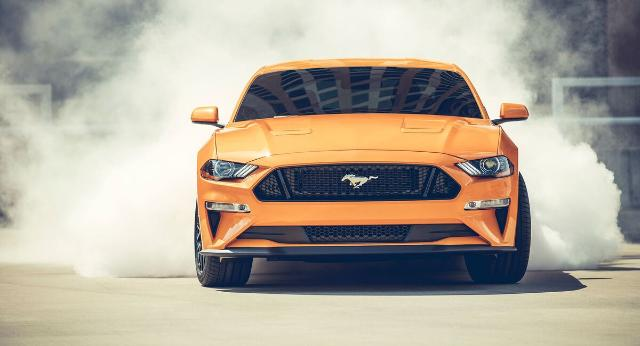ford-mustang: (190, 58, 532, 288)
